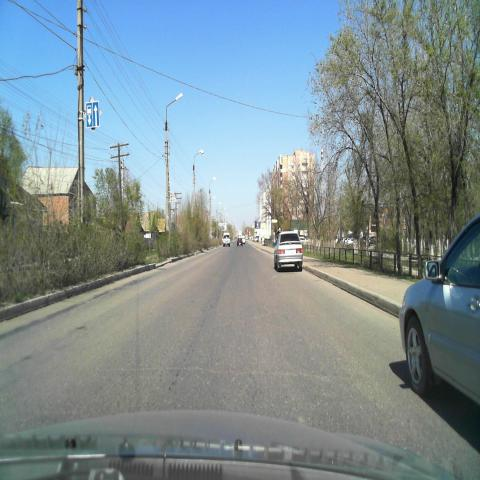5_11: (86, 100, 100, 128)
